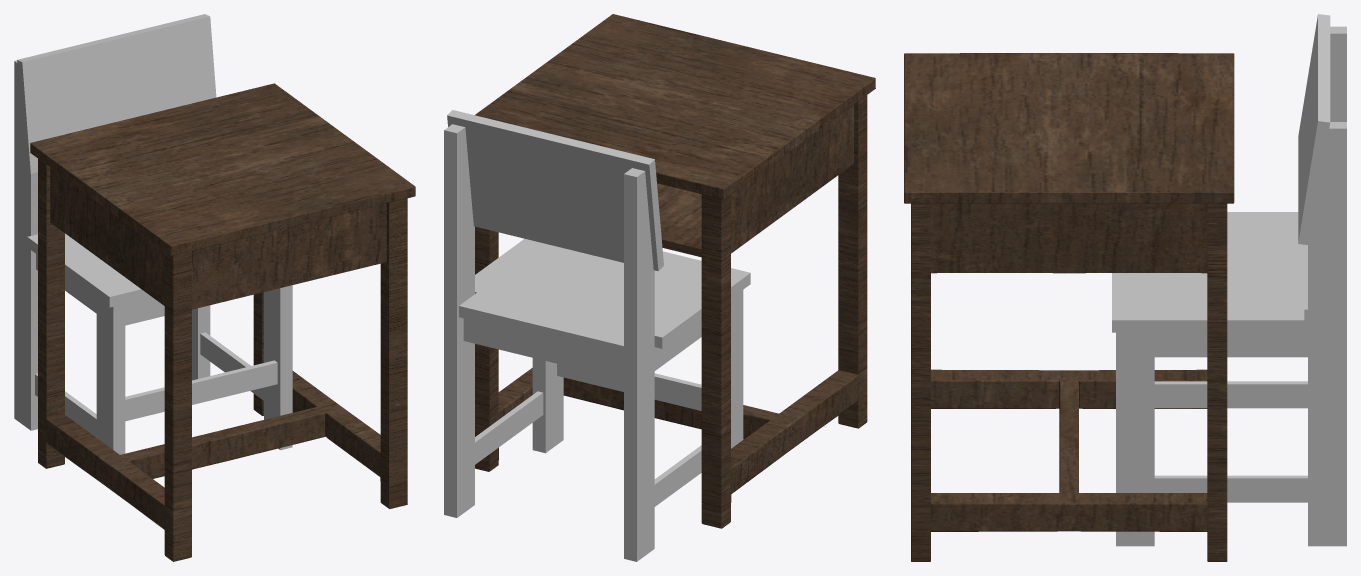
Rendered from TableAndChair.fbx.
3 renders of one model, left to right at view 1: azimuth 30°, elevation 25°; view 2: azimuth 150°, elevation 25°; view 3: azimuth 270°, elevation 25°, orthographic. The views are drawn at different scales.
Parts seen in each view (by area): view 1: Cube, Kursi_Cube.002; view 2: Cube, Kursi_Cube.002; view 3: Cube, Kursi_Cube.002.
Part boxes in pixels (x1,y1,x2,y2): Cube: (30,83,415,561); Kursi_Cube.002: (14,14,292,454); Cube: (475,14,875,528); Kursi_Cube.002: (444,110,750,561); Cube: (904,53,1234,561); Kursi_Cube.002: (1112,14,1346,546).
Size of the model in its own units: 242 by 346 by 325.
